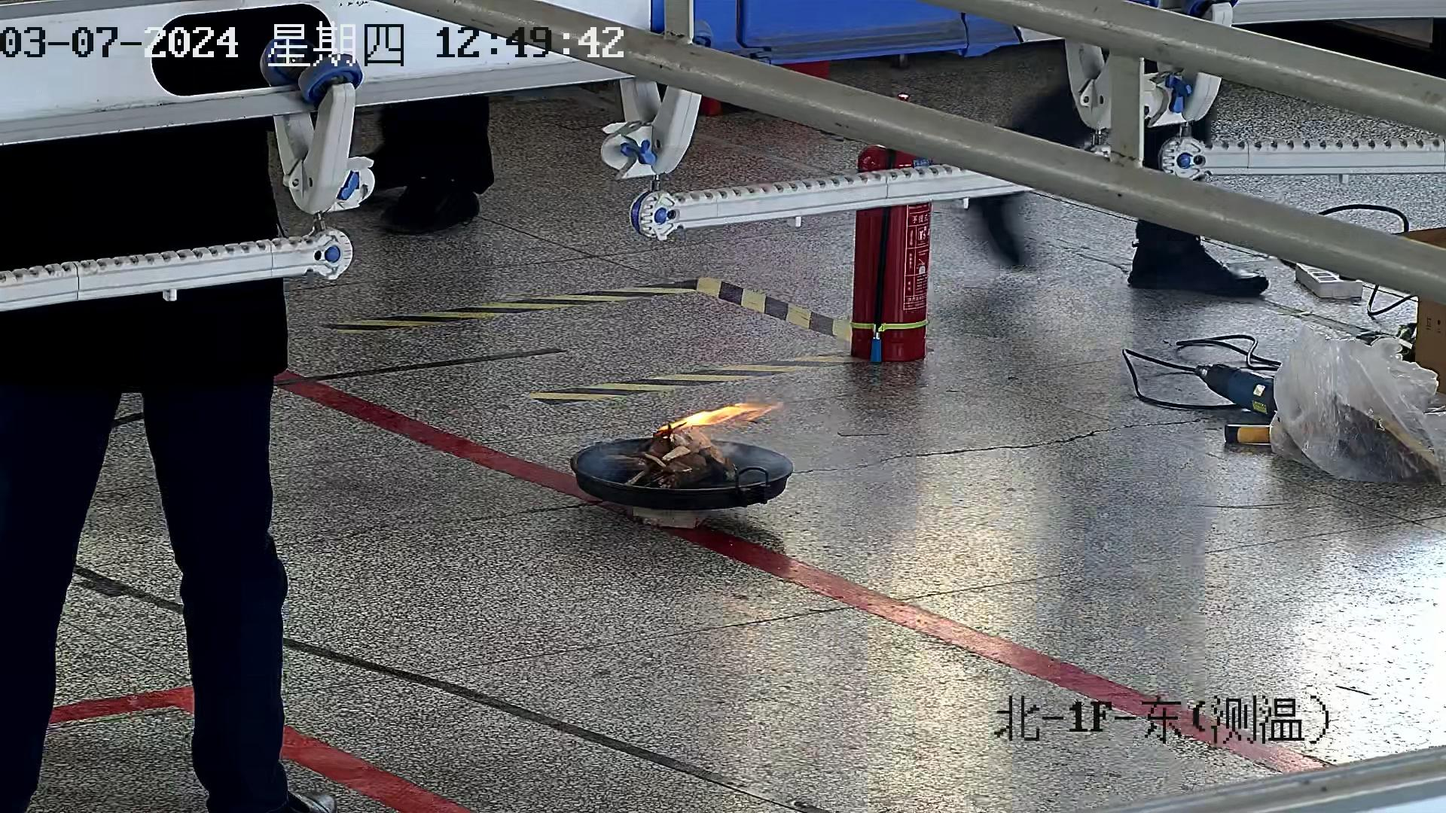fire: (656, 403, 776, 436)
